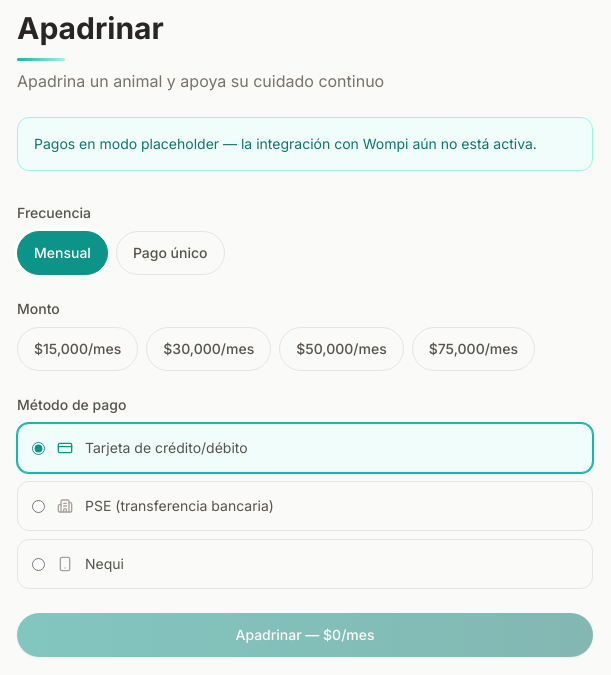
Test: CheckoutApadrinamientoPage › shows Procesando text while submitting and navigates to confirmation
The width and height of the screenshot is (611, 675).
Click the button "$30,000/mes": (209, 349) [146,327,271,371]
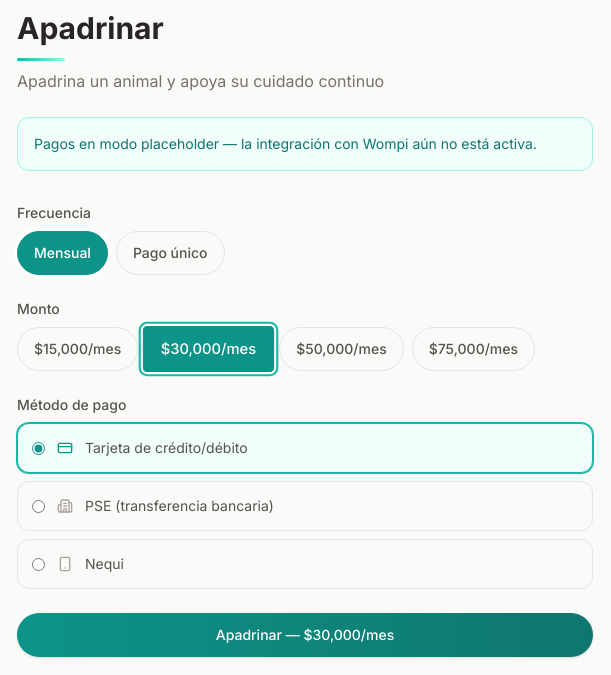
Click the button "Apadrinar — $30,000/mes": (305, 635) [17,613,593,657]
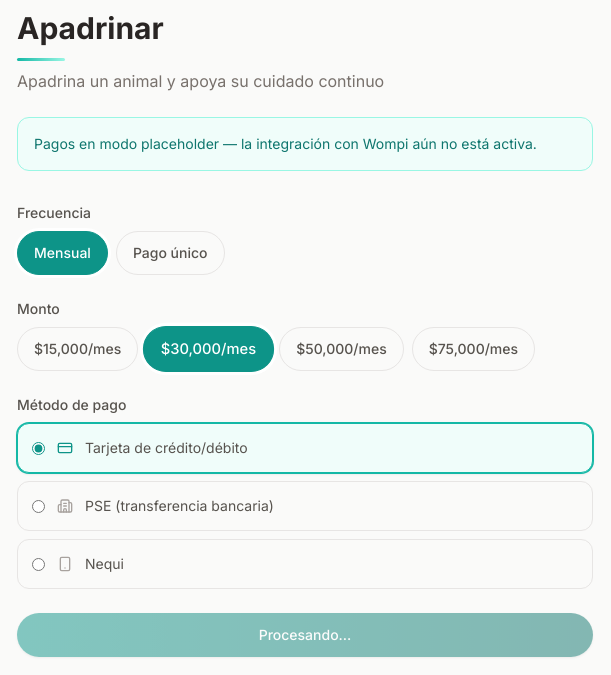
Check: the button "Procesando..." is shown, box [17,613,593,657]
